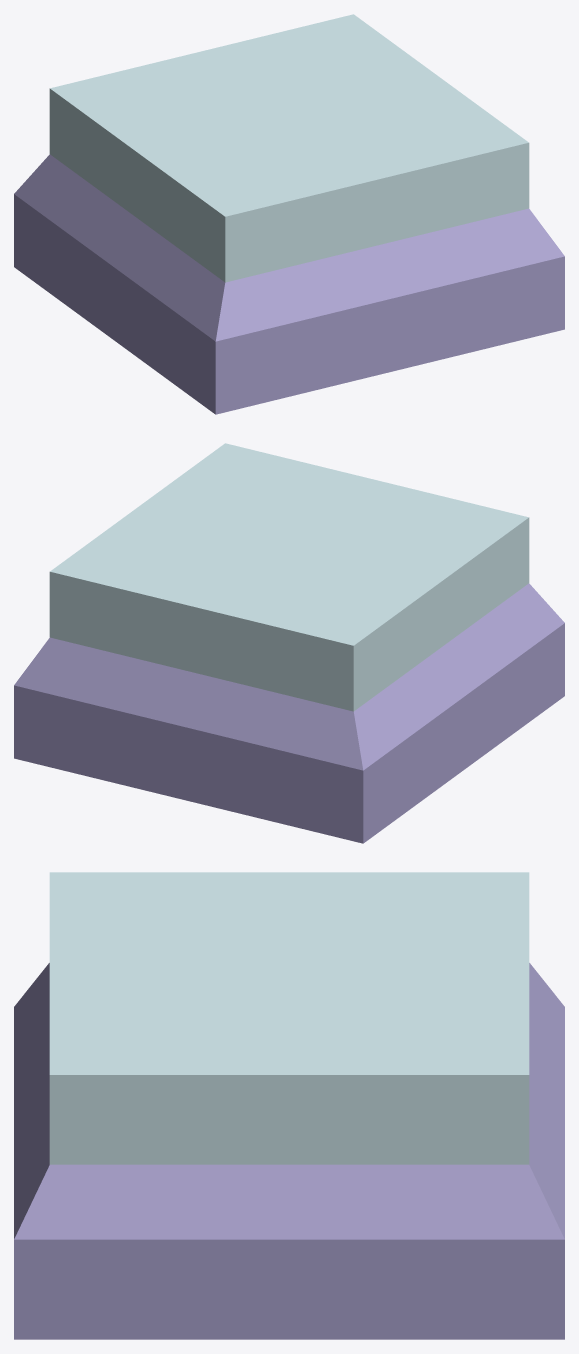
The model's file is towerSquare_bottomA.glb.
3 views of the same model, one above another, from view 1: azimuth 30°, elevation 25°; view 2: azimuth 150°, elevation 25°; view 3: azimuth 270°, elevation 25° (orthographic). The views are drawn at different scales.
Visible parts, largest first — view 1: towerSquare_bottomA; view 2: towerSquare_bottomA; view 3: towerSquare_bottomA.
Boxes of the visible parts, box(x1,y1,x2,y2) form: towerSquare_bottomA: box(14, 14, 564, 414); towerSquare_bottomA: box(14, 443, 564, 843); towerSquare_bottomA: box(14, 872, 564, 1339).
Size of the model in its own units: 1 by 0.5 by 1.
